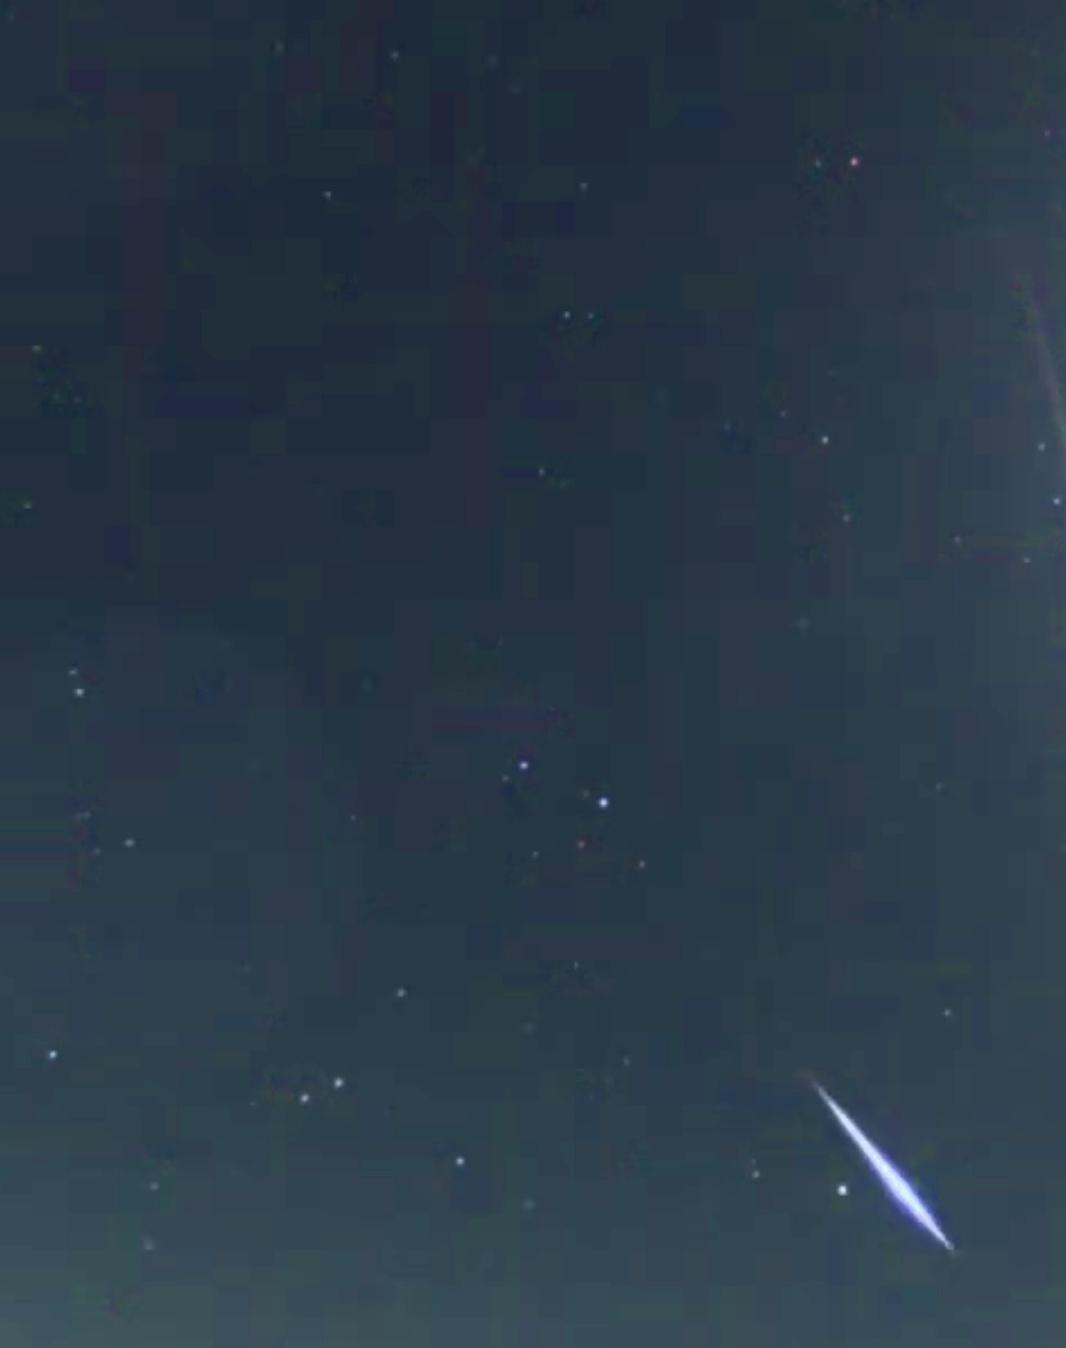meteorite: (788, 1056, 995, 1283)
